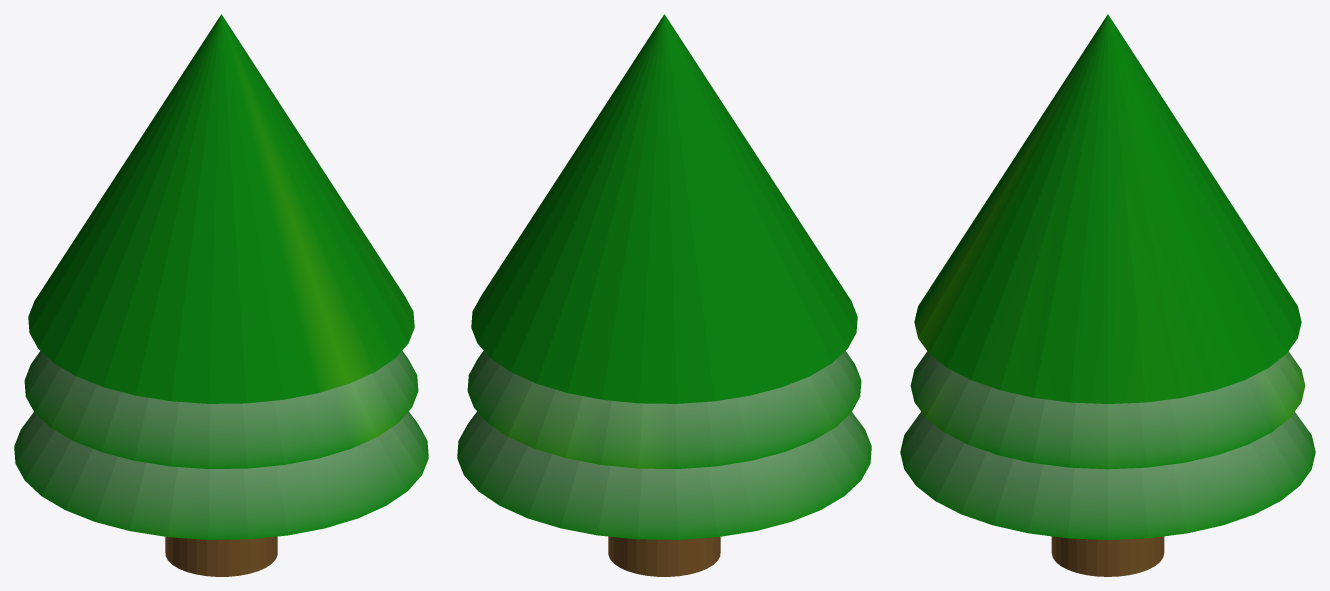
Rendered from avore2.fbx.
3 views of the same model, side by side, from view 1: azimuth 30°, elevation 25°; view 2: azimuth 150°, elevation 25°; view 3: azimuth 270°, elevation 25° (orthographic).
Parts seen in each view (by area): view 1: Cylinder; view 2: Cylinder; view 3: Cylinder.
Boxes of the visible parts, left/top/right/bottom form: Cylinder: left=14, top=14, right=428, bottom=576; Cylinder: left=457, top=14, right=871, bottom=576; Cylinder: left=900, top=14, right=1315, bottom=576.
Size of the model in its own units: 257 by 368 by 257.
